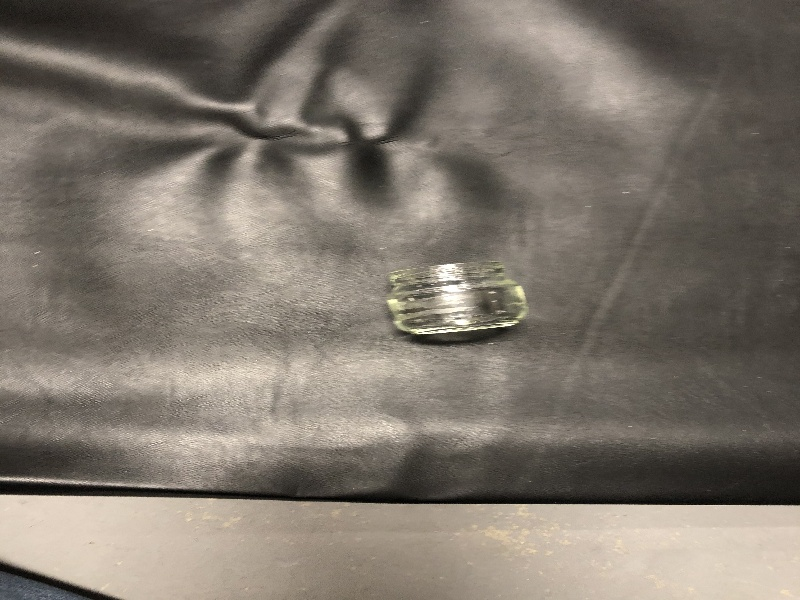glass: (381, 255, 528, 345)
